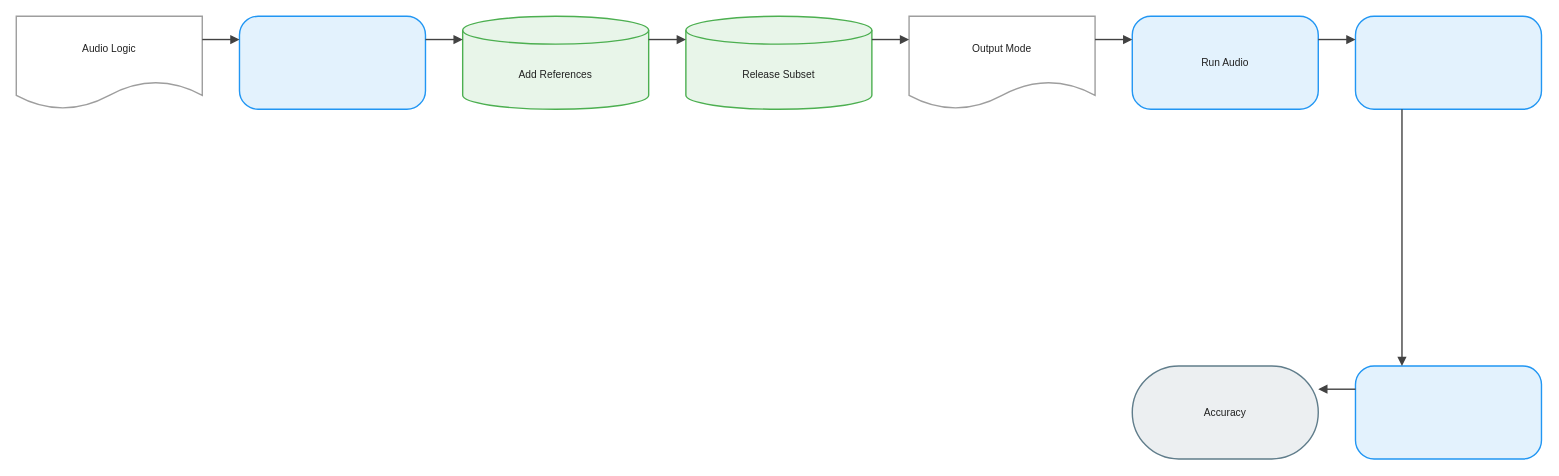
Some shapes in this 1559 by 476 pixel diagram are drawn without their labels. Each missing label, with the box of its shape:
Build 202: (238, 15, 426, 110)
GPT-4o Judge: (1354, 365, 1542, 459)
Merge Text: (1354, 15, 1542, 110)
